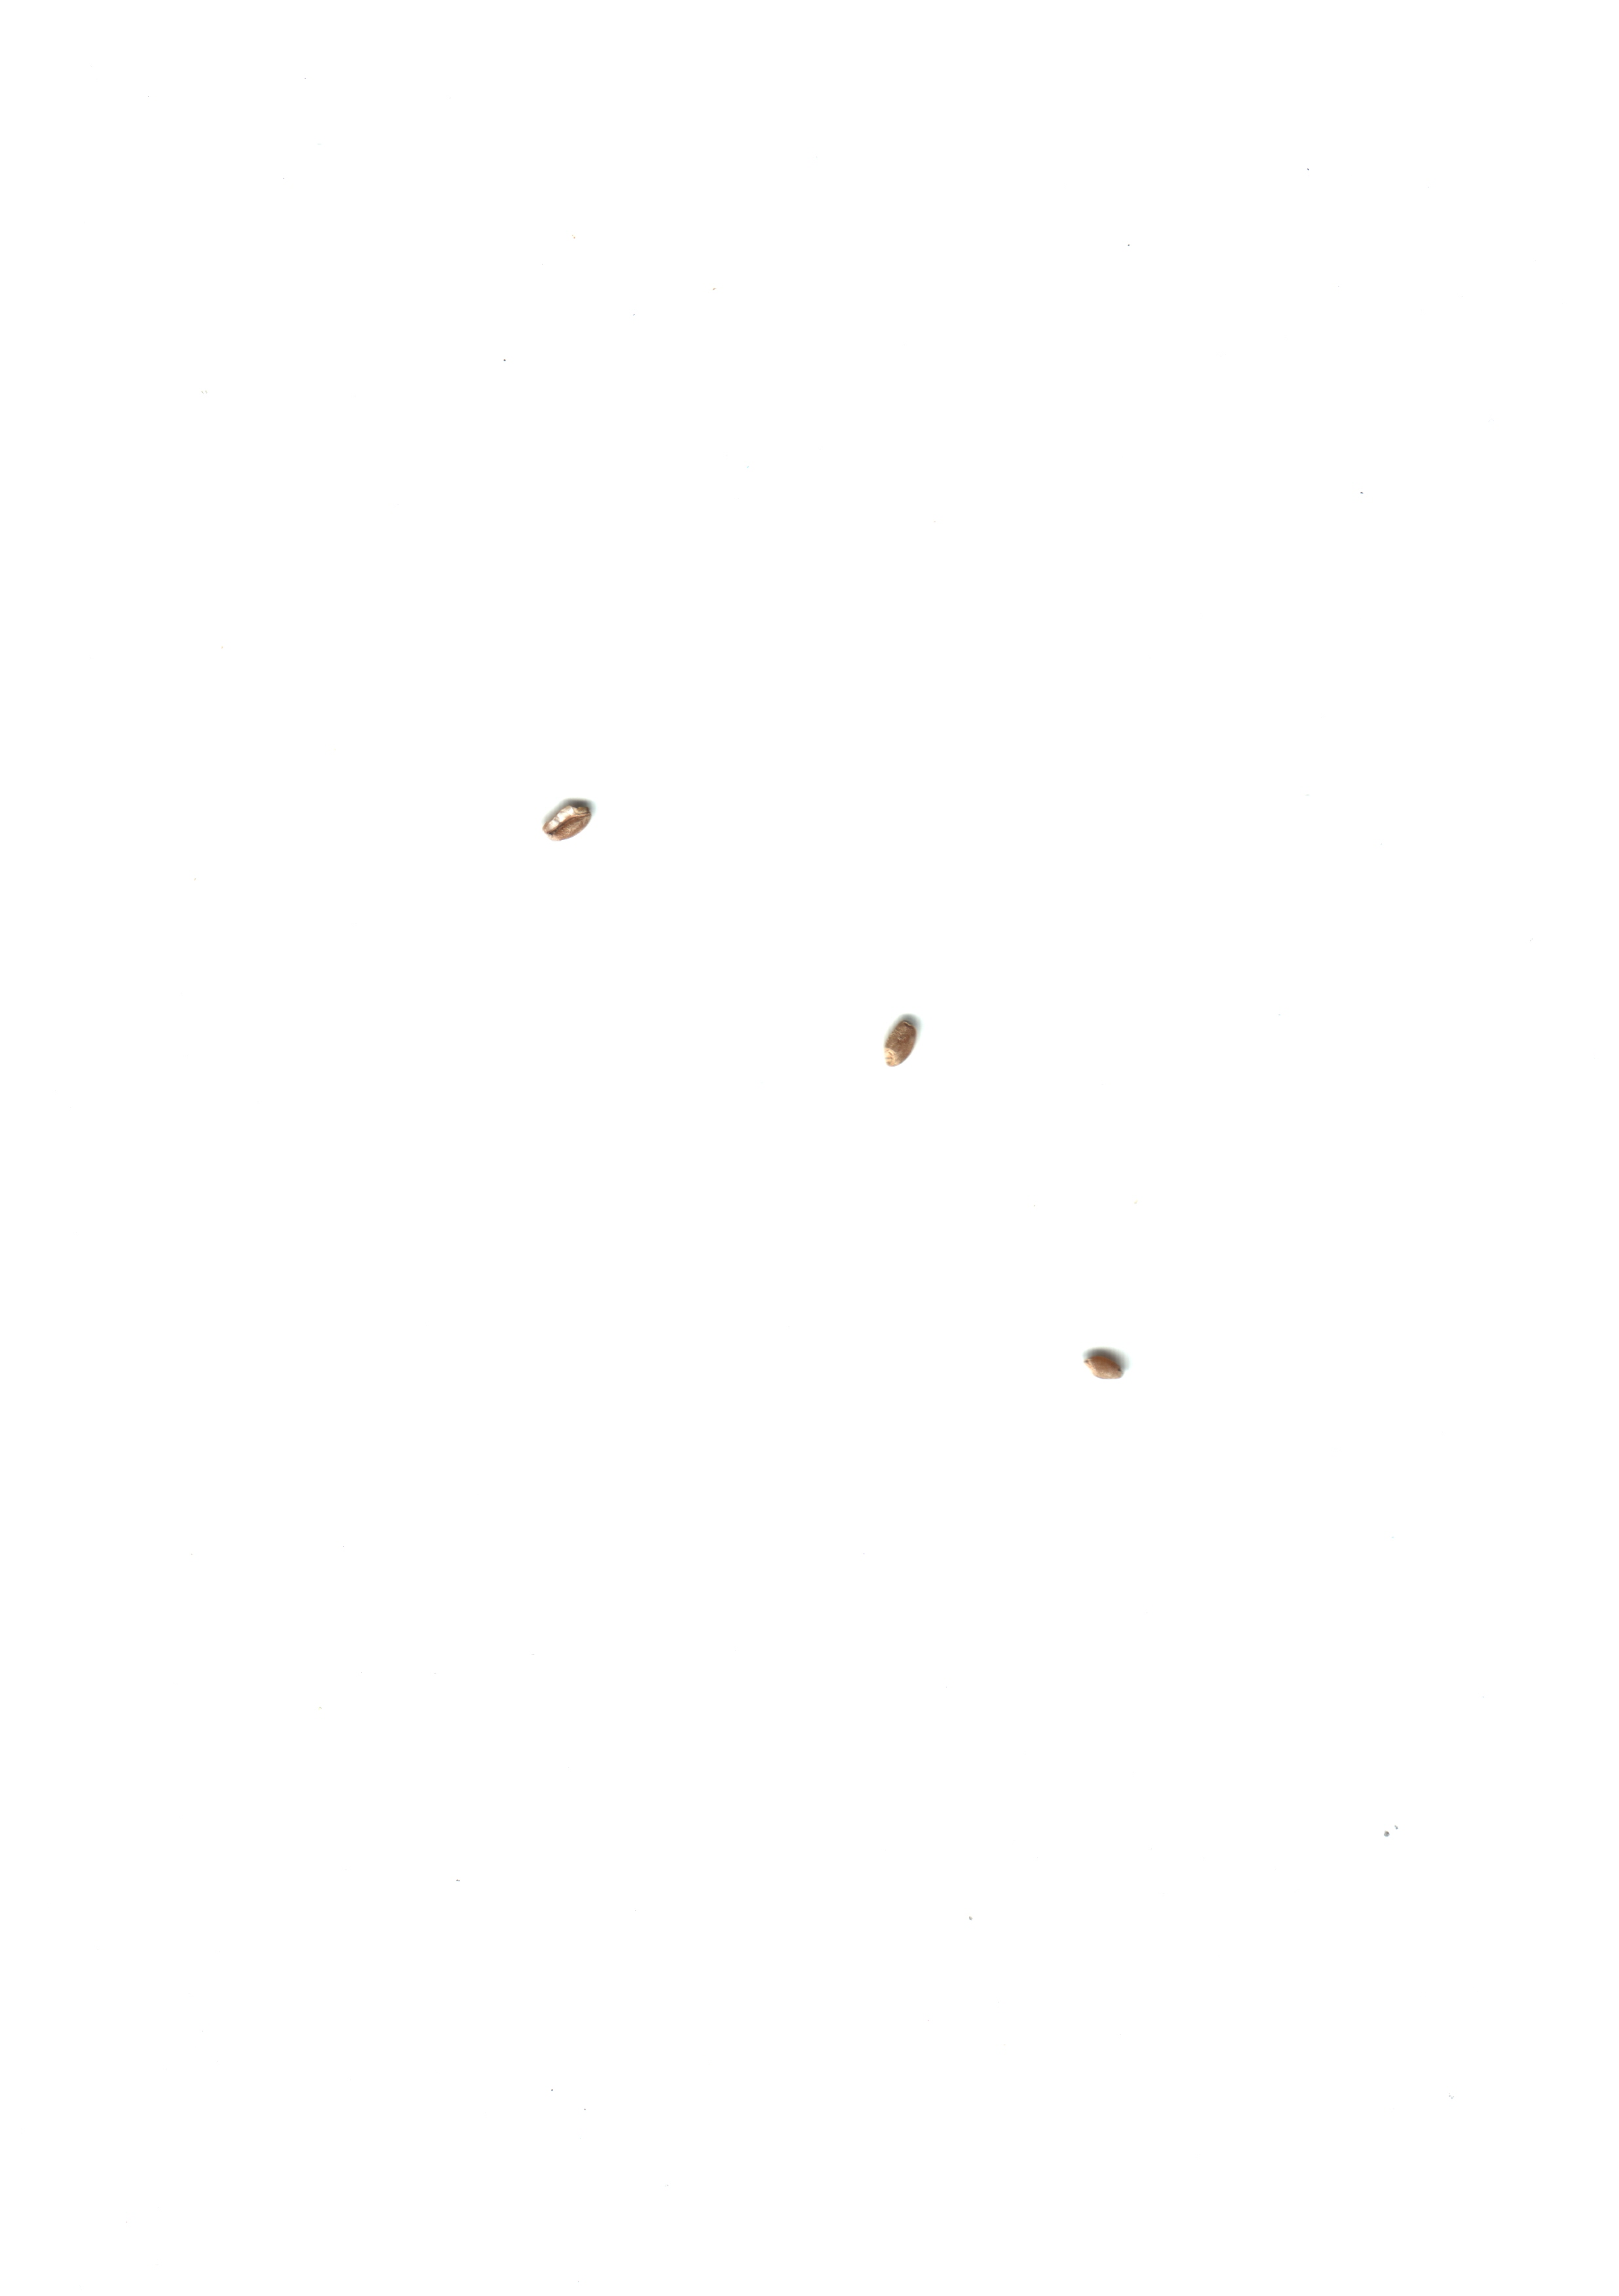grains_2_5mm: (526, 775, 608, 864), (1069, 1320, 1149, 1409), (860, 996, 941, 1085)
